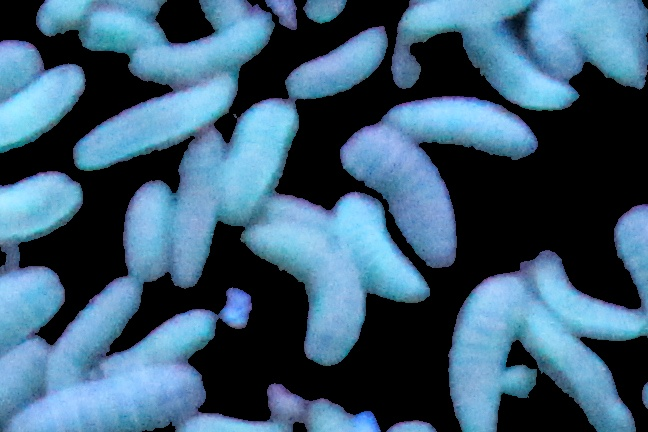larvae: (242, 221, 368, 365), (339, 126, 457, 267), (75, 72, 237, 171), (519, 304, 633, 432), (447, 271, 534, 432), (11, 361, 205, 432), (332, 192, 428, 303), (47, 277, 142, 389), (129, 10, 273, 82), (219, 96, 299, 223), (380, 97, 538, 161), (530, 249, 644, 336), (461, 26, 578, 110), (170, 128, 228, 286), (544, 1, 643, 85), (98, 308, 217, 375), (1, 63, 87, 154), (287, 26, 388, 98), (1, 171, 85, 247), (397, 1, 531, 42), (1, 266, 64, 350), (122, 183, 173, 283), (1, 336, 53, 428), (522, 13, 583, 78), (79, 10, 172, 52), (265, 191, 340, 239), (613, 206, 648, 307)
